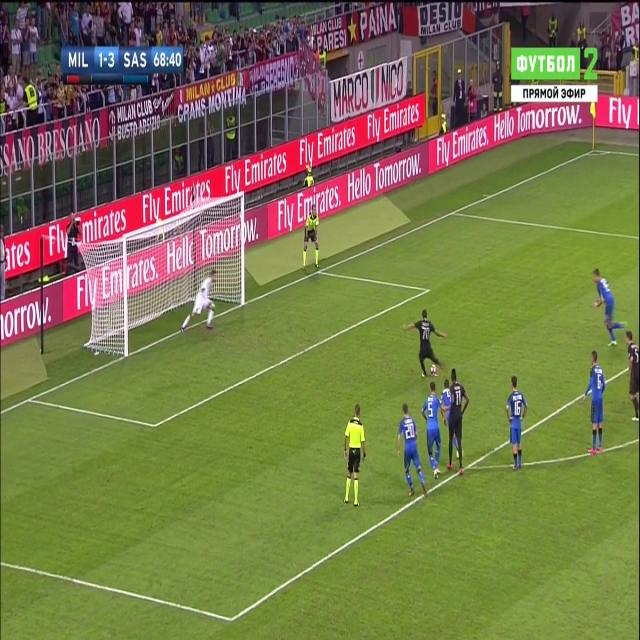Ball: (428, 360, 439, 380)
Goalkeeper: (177, 269, 218, 336)
Player: (402, 307, 448, 381), (395, 399, 430, 496), (593, 266, 630, 348), (583, 350, 607, 458), (446, 366, 468, 478), (420, 382, 445, 478), (505, 371, 528, 471), (623, 329, 640, 424)
Referee: (341, 402, 366, 510), (302, 200, 322, 276)
